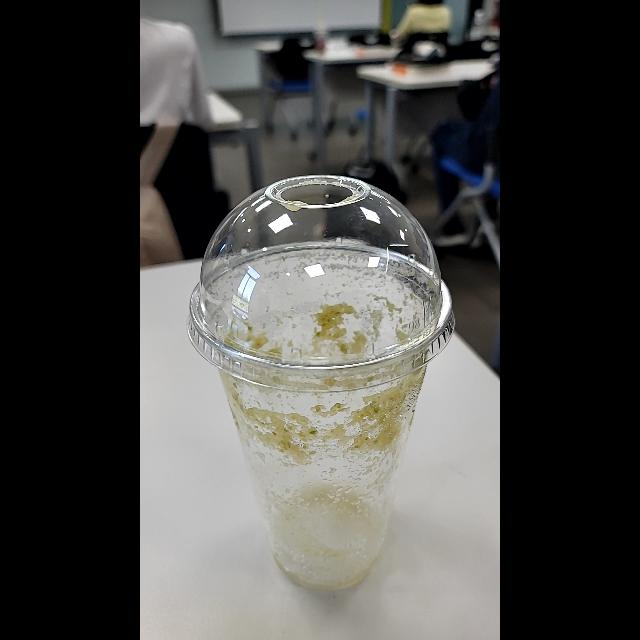plastic_cup: (187, 174, 459, 592)
plastic_cup_lid: (189, 174, 455, 392)
